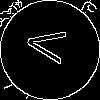V: (25, 25, 76, 66)
